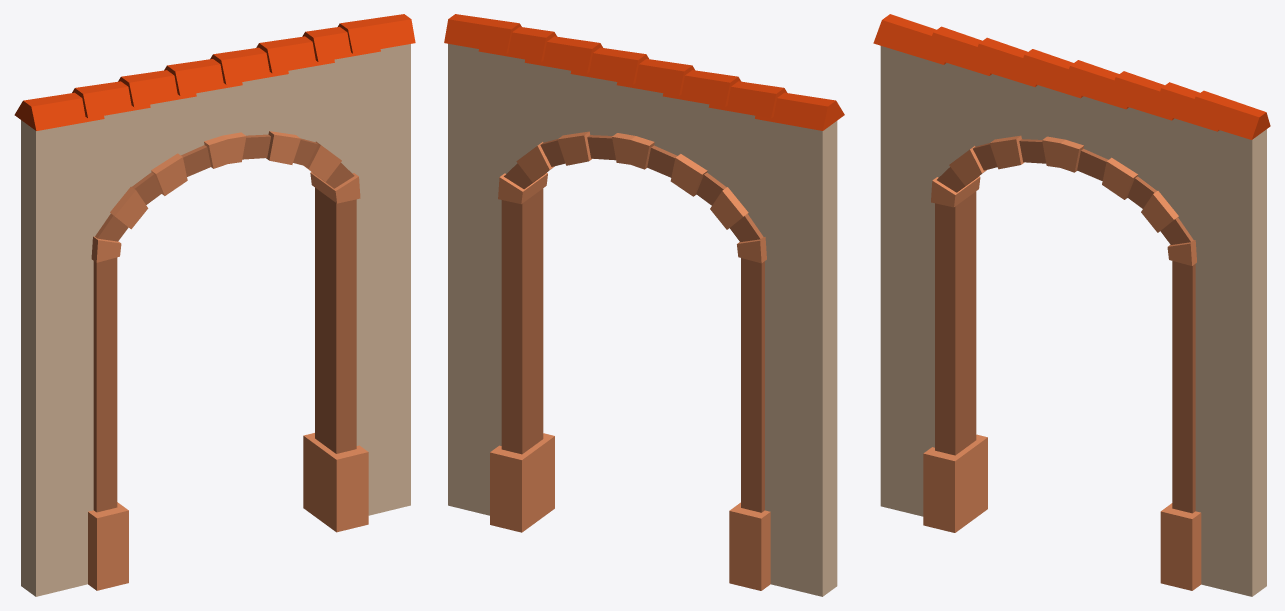
File: village_pack_gate_1.glb
The picture shows the model from 3 angles, left to right: view 1: azimuth 30°, elevation 25°; view 2: azimuth 150°, elevation 25°; view 3: azimuth 330°, elevation 25°; orthographic projection.
Visible parts, largest first — view 1: gate 1_brick 1_0; view 2: gate 1_brick 1_0; view 3: gate 1_brick 1_0.
Boxes of the visible parts, x1,y1,x2,y2 form: gate 1_brick 1_0: (14,14,415,596); gate 1_brick 1_0: (444,14,844,596); gate 1_brick 1_0: (873,14,1270,596).
Size of the model in its own units: 3.89 by 4.75 by 0.5833.
